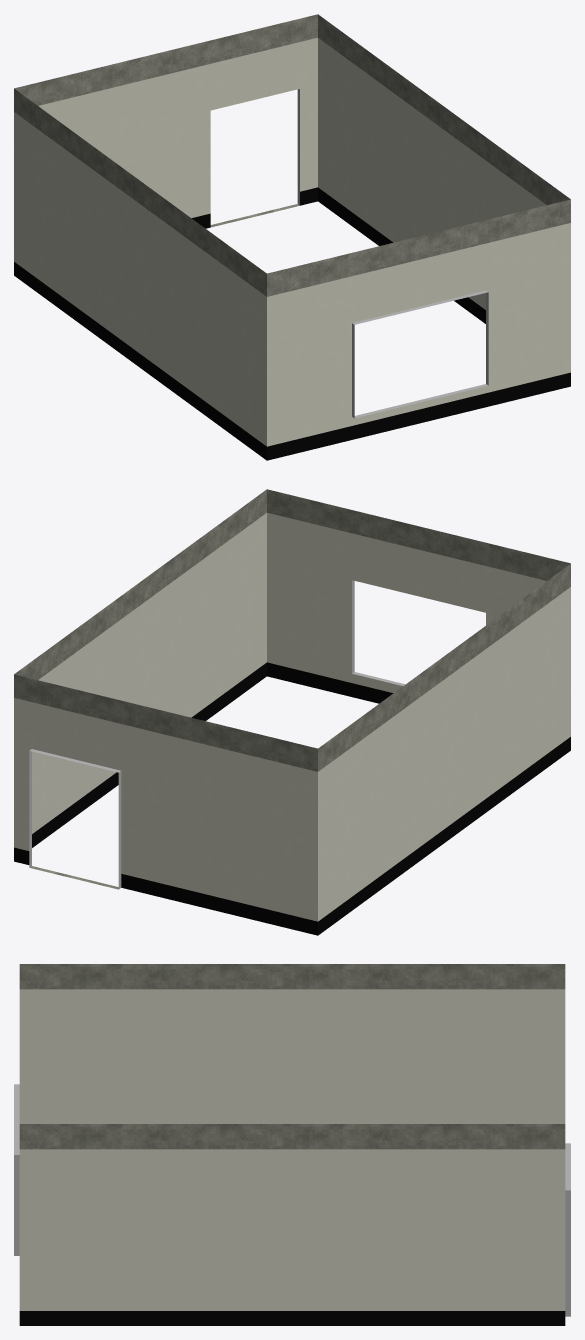
File: stair_corridor.glb
3 views of the same model, one above another, from view 1: azimuth 30°, elevation 25°; view 2: azimuth 150°, elevation 25°; view 3: azimuth 270°, elevation 25° (orthographic). The views are drawn at different scales.
Visible parts, largest first — view 1: SiatrCorridor; view 2: SiatrCorridor; view 3: SiatrCorridor.
Boxes of the visible parts, x1,y1,x2,y2 form: SiatrCorridor: (14, 14, 570, 460); SiatrCorridor: (14, 489, 570, 935); SiatrCorridor: (14, 964, 570, 1325).
Size of the model in its own units: 6.8 by 4 by 10.
4 materials, 2 textured.
